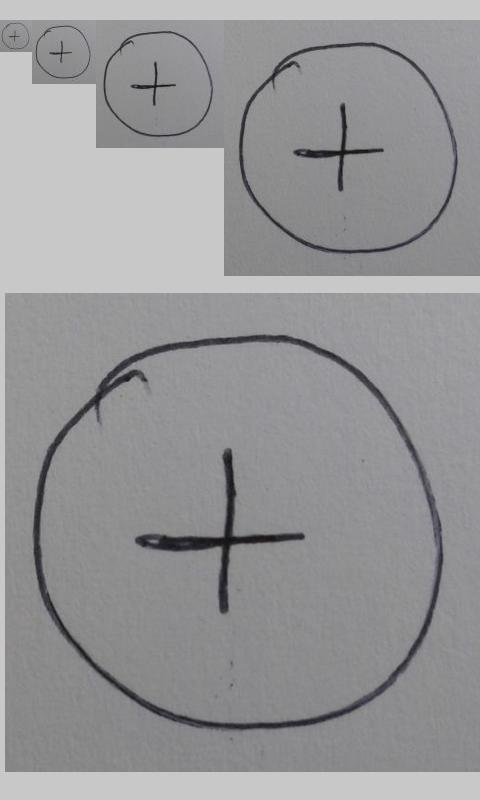button: (31, 331, 447, 735), (238, 41, 460, 255), (102, 29, 214, 139), (35, 25, 91, 79), (1, 22, 30, 50)
